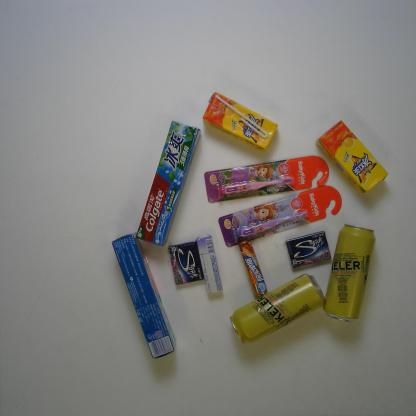Alcohol: (228, 273, 325, 344), (322, 222, 376, 324)
Candy: (238, 237, 268, 300), (196, 232, 224, 295)
Drink: (316, 120, 389, 193), (203, 92, 279, 150)
Gum: (284, 230, 332, 270), (169, 240, 204, 287)
Personal Hygiene: (110, 233, 176, 360), (134, 119, 200, 246), (219, 185, 342, 247), (204, 154, 330, 204)
